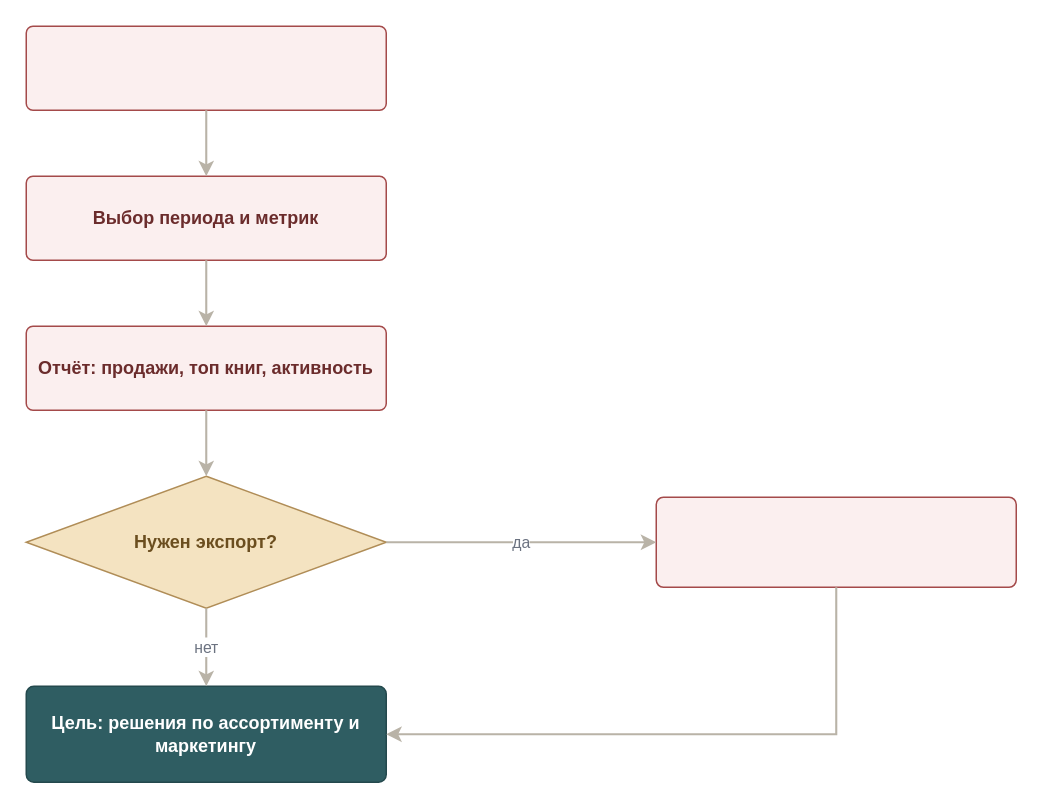
Some shapes in this 1043 by 809 pixel diagram are drawn without their labels. The shapes that lost their labels are listed below. From the top down, each one's centre as x and y in pixels, then its label:
At pixel 205 67: "Старт: /admin → Аналитика".
At pixel 835 541: "Экспорт Excel / CSV".
